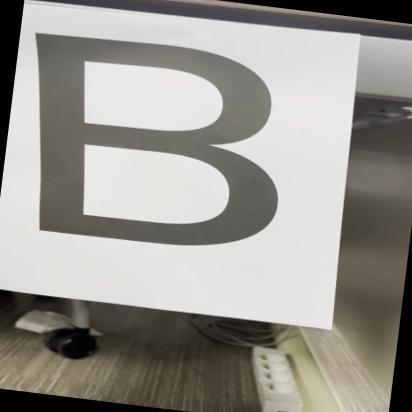seat: (4, 21, 311, 266)
